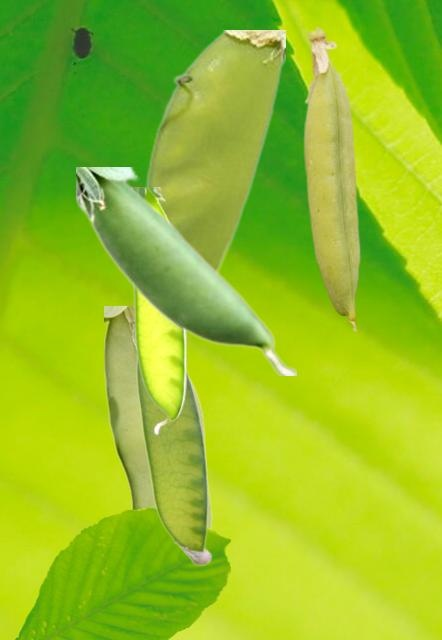pea: (76, 167, 295, 374), (145, 30, 284, 271), (104, 306, 211, 527), (303, 26, 360, 331), (135, 358, 211, 564), (131, 187, 185, 434)
